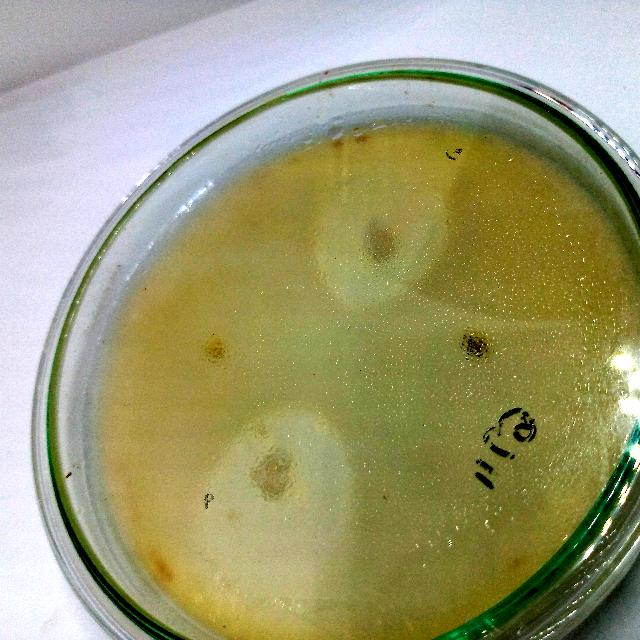colony: (246, 441, 300, 507), (358, 215, 404, 271), (456, 328, 496, 368), (197, 330, 236, 370)
